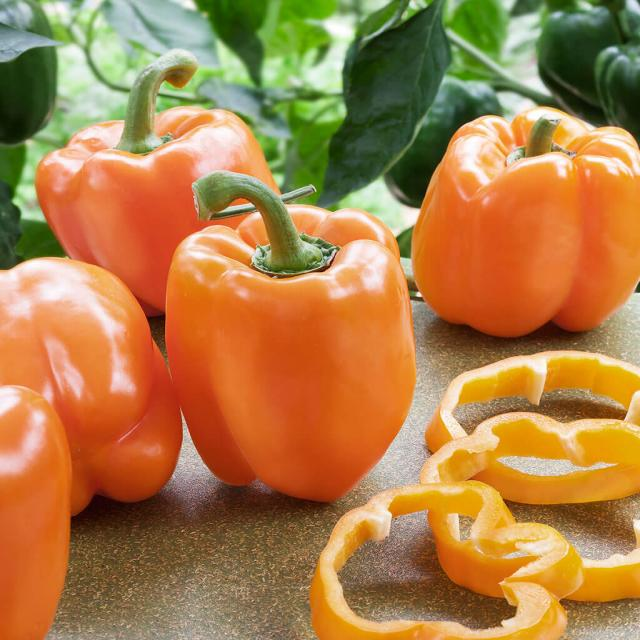bell pepper: (157, 229, 452, 489), (429, 82, 640, 341), (14, 51, 280, 224), (0, 261, 181, 404), (0, 385, 96, 640)
